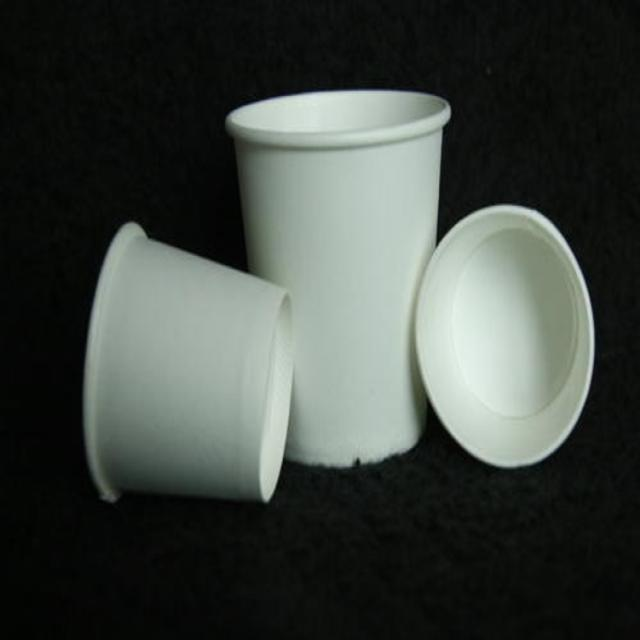PaperCardboard: (229, 87, 449, 463), (79, 232, 293, 499), (415, 202, 596, 465)
